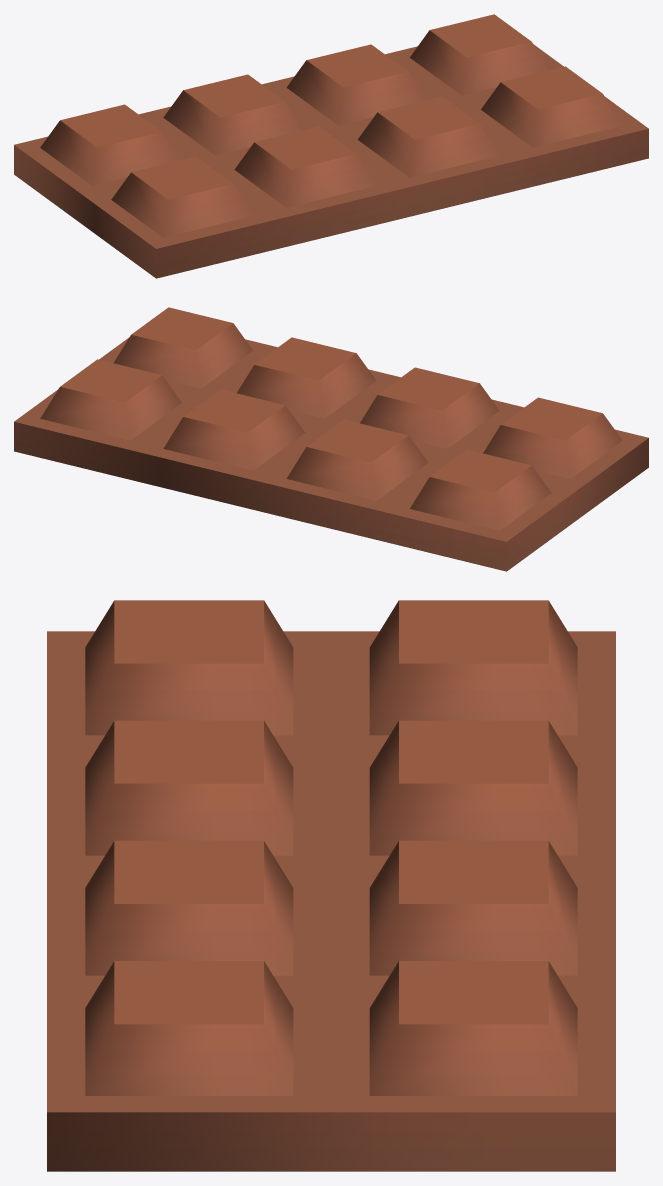
File: chocolate.glb
3 renders of one model, top to bottom at view 1: azimuth 30°, elevation 25°; view 2: azimuth 150°, elevation 25°; view 3: azimuth 270°, elevation 25°, orthographic. The views are drawn at different scales.
Visible parts, largest first — view 1: chocolate; view 2: chocolate; view 3: chocolate.
Boxes of the visible parts, box(x1,y1,x2,y2) form: chocolate: box(14, 14, 648, 278); chocolate: box(14, 307, 648, 571); chocolate: box(47, 600, 615, 1171).
Bounding box in the file's own units: 0.2924 × 0.0337 × 0.1462.
Materials: 1 (1 with a texture image).
